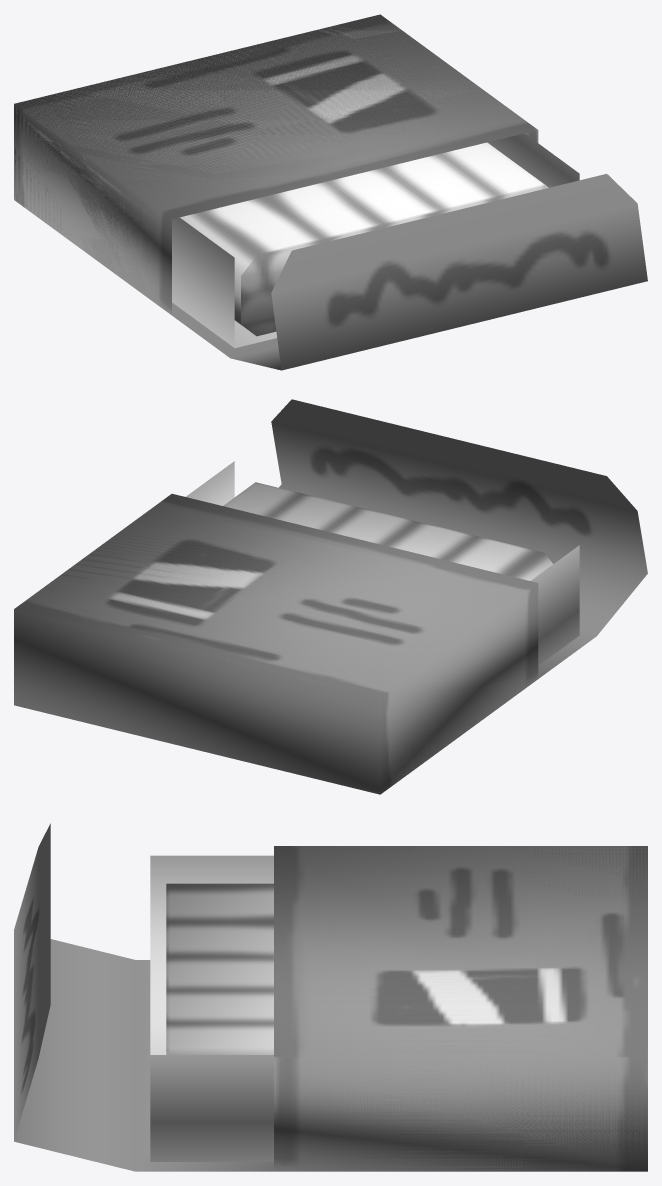
The model's file is obj_CigaretteBox.fbx.
3 views of the same model, one above another, from view 1: azimuth 30°, elevation 25°; view 2: azimuth 150°, elevation 25°; view 3: azimuth 270°, elevation 25° (orthographic). The views are drawn at different scales.
Parts seen in each view (by area): view 1: obj_CigaretteBox; view 2: obj_CigaretteBox; view 3: obj_CigaretteBox.
Boxes of the visible parts, left/top/right/bottom form: obj_CigaretteBox: left=14, top=14, right=647, bottom=370; obj_CigaretteBox: left=14, top=399, right=647, bottom=794; obj_CigaretteBox: left=14, top=823, right=647, bottom=1171.
Bounding box in the file's own units: 0.1106 × 0.0369 × 0.14.
